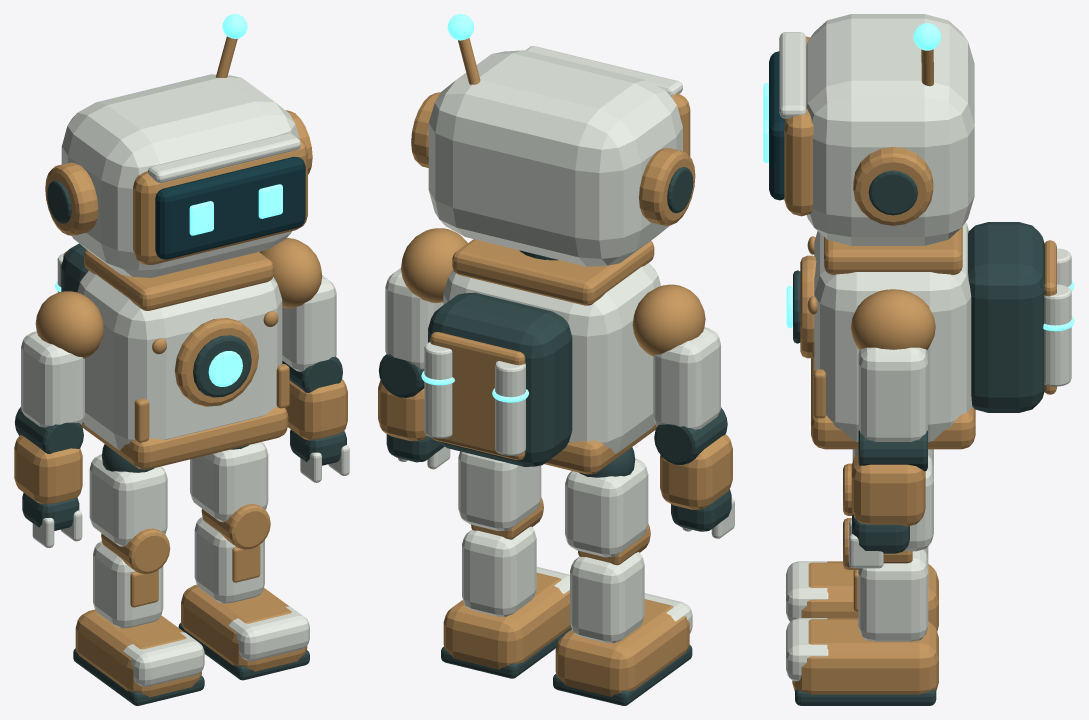
The model's file is Auri.fbx.
3 renders of one model, left to right at view 1: azimuth 30°, elevation 25°; view 2: azimuth 150°, elevation 25°; view 3: azimuth 270°, elevation 25°, orthographic. The views are drawn at different scales.
Visible parts, largest first — view 1: HeadShell, TorsoShell, Visor, TorsoCollar, LeftThigh, LeftUpperArm, LeftFoot, RightFoot, RightThigh, TorsoLowerBand, RightUpperArm, FaceFrame (+31 smaller); view 2: HeadShell, TorsoShell, Backpack, LeftFoot, RightFoot, TorsoCollar, LeftThigh, LeftShin, RightShin, BackpackPlate, LeftUpperArm, RightThigh (+25 smaller); view 3: HeadShell, TorsoShell, Backpack, RightFoot, RightUpperArm, RightShin, RightForearm, RightShoulder, TorsoCollar, EarHousing.001, LeftFoot, FaceFrame (+19 smaller).
Part boxes in pixels (x1,y1,x2,y2): HeadShell: (61,74,299,277); TorsoShell: (77,271,282,450); Visor: (155,156,305,259); TorsoCollar: (84,250,273,310); LeftThigh: (89,454,167,546); LeftUpperArm: (21,331,84,427); LeftFoot: (75,609,201,697); RightFoot: (181,584,307,671); RightThigh: (190,442,268,522); TorsoLowerBand: (81,407,288,469); RightUpperArm: (282,275,336,371); FaceFrame: (133,137,307,264); HeadShell: (428,50,682,266); TorsoShell: (443,263,660,453); Backpack: (428,292,572,466); LeftFoot: (555,599,689,696); RightFoot: (443,573,570,669); TorsoCollar: (452,239,654,305); LeftThigh: (565,457,648,557); LeftShin: (570,552,644,643); RightShin: (462,526,536,616); BackpackPlate: (430,332,525,460); LeftUpperArm: (653,327,720,429); RightThigh: (458,451,541,531); HeadShell: (806,14,974,245); TorsoShell: (814,222,972,441); Backpack: (968,222,1044,412); RightFoot: (792,618,938,694); RightUpperArm: (858,347,927,441); RightShin: (858,549,928,641); RightForearm: (851,452,925,526); RightShoulder: (851,289,935,349); TorsoCollar: (824,227,962,274); EarHousing.001: (853,147,933,225); LeftFoot: (801,561,938,631); FaceFrame: (784,36,813,216).
Bounding box in the file's own units: 0.516 × 0.964 × 0.4035.
